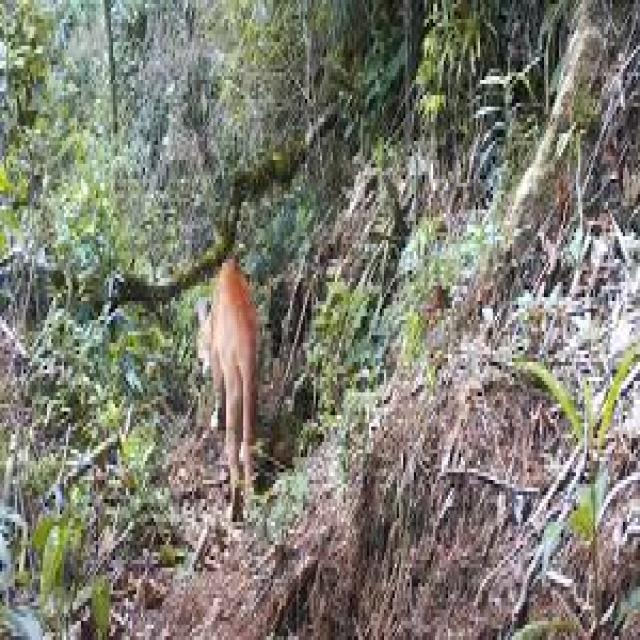Jaguar: (192, 255, 265, 526)
